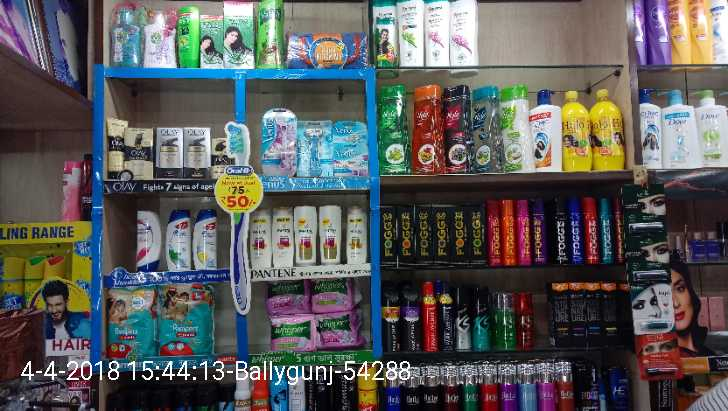venus: (263, 107, 298, 174), (299, 121, 335, 175), (335, 120, 368, 175)
